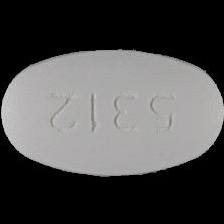53808-0223: (0, 0, 224, 224)
